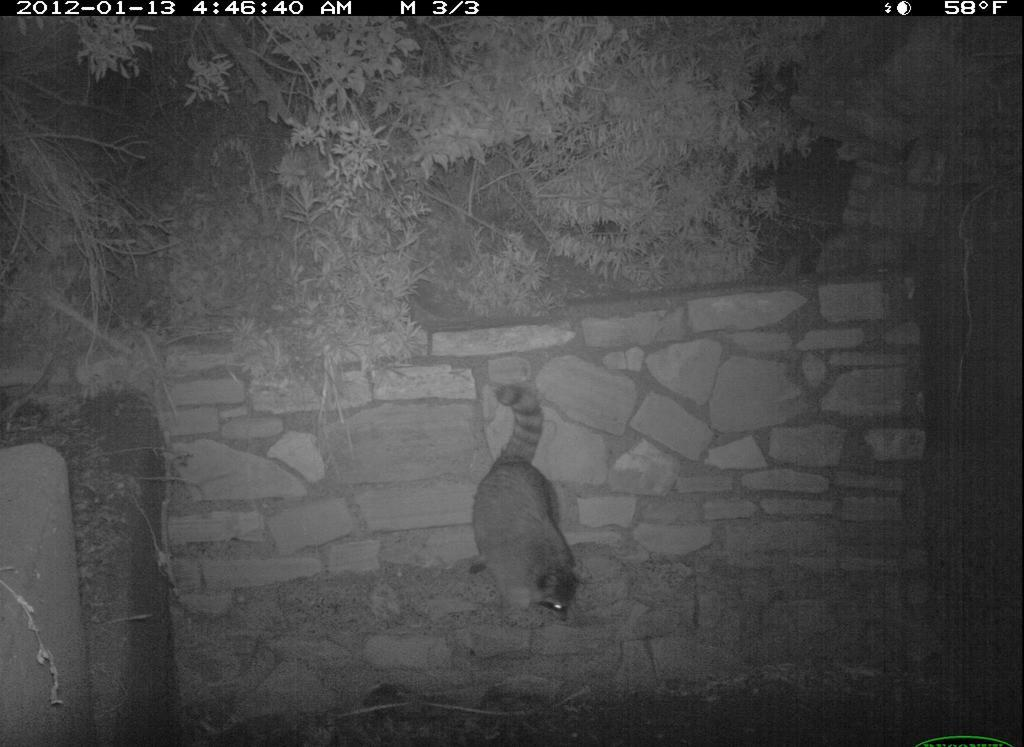raccoon: (466, 378, 598, 630)
